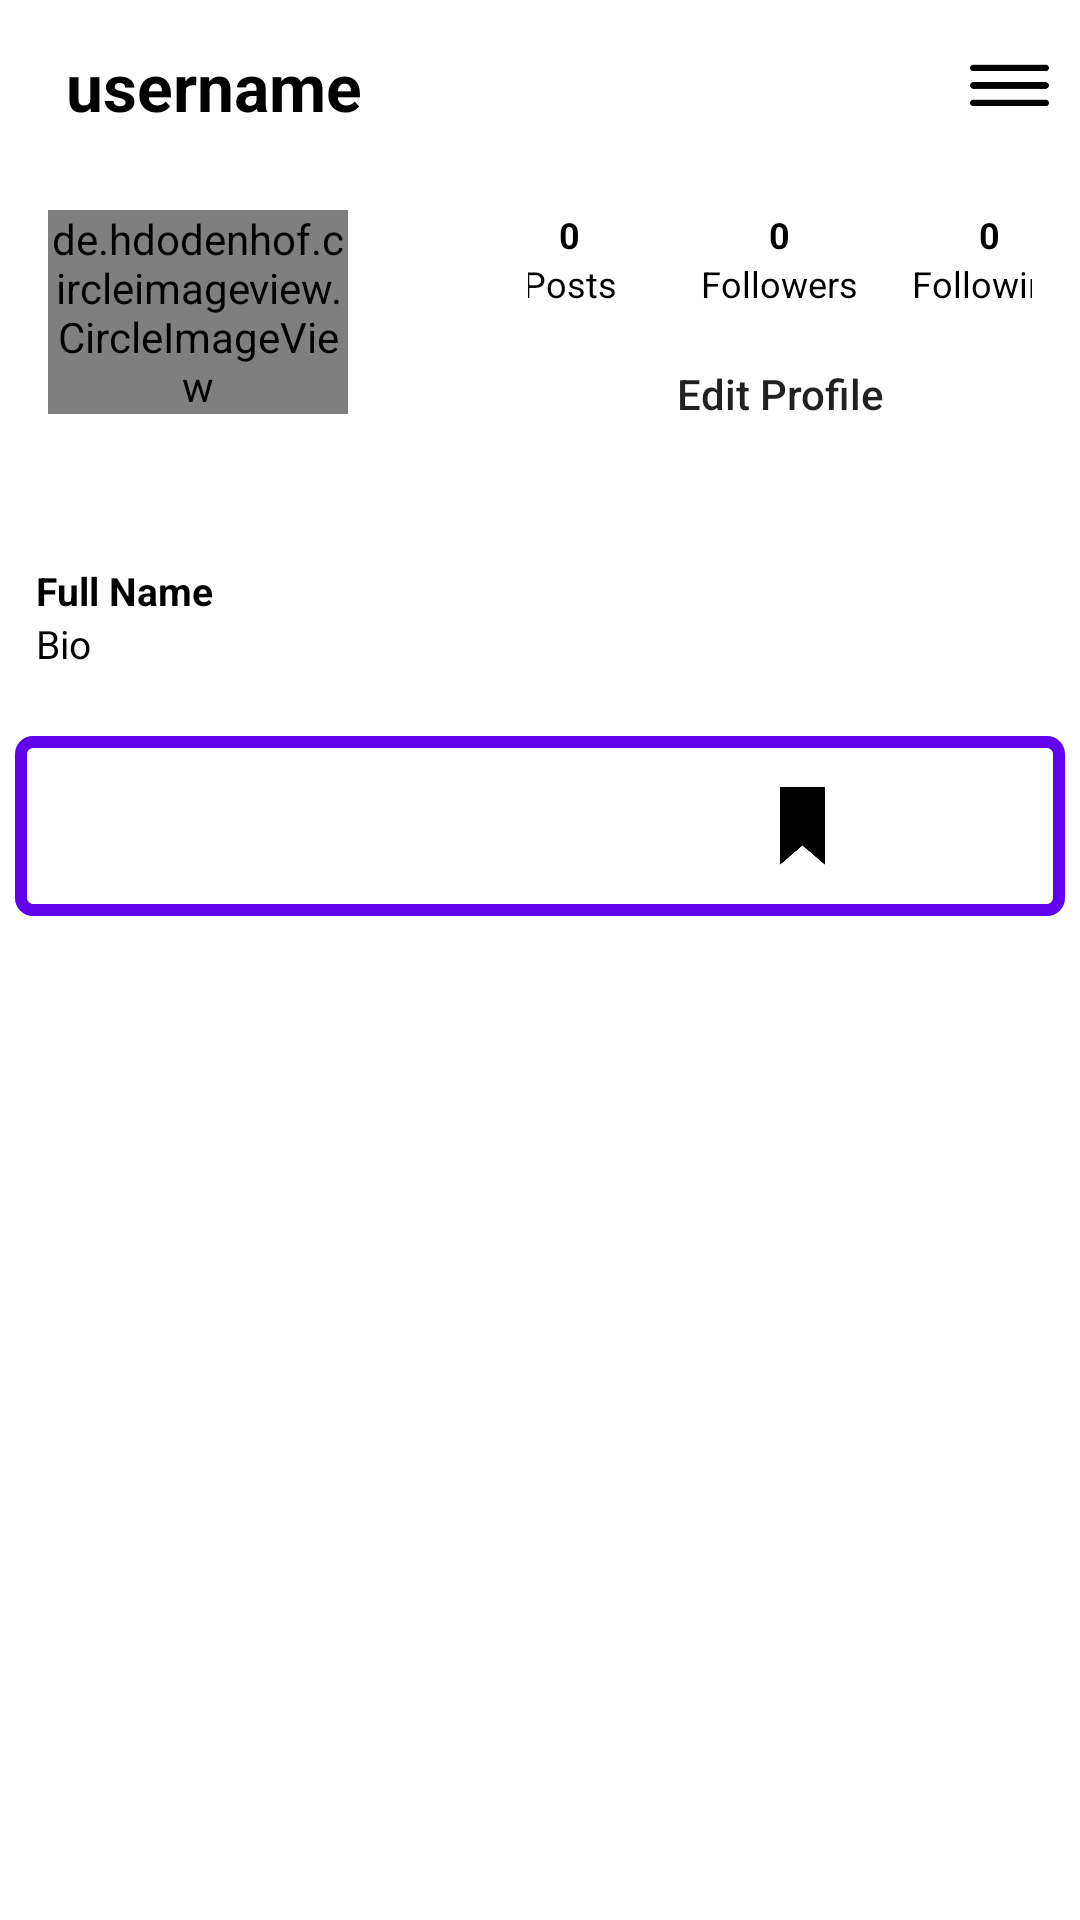

Point at icon controls on the screen. Image size 1080w x 1920h, points as (x=x, y=y).
options: (x=1009, y=85)
